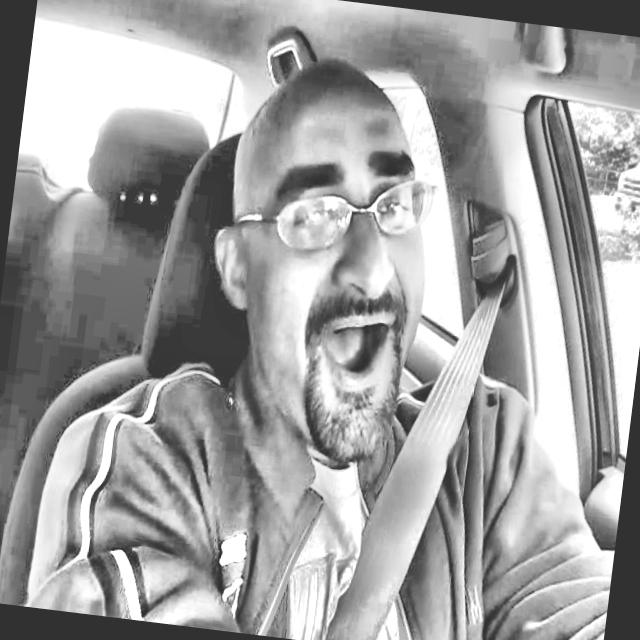open_mouth: (307, 304, 411, 405)
